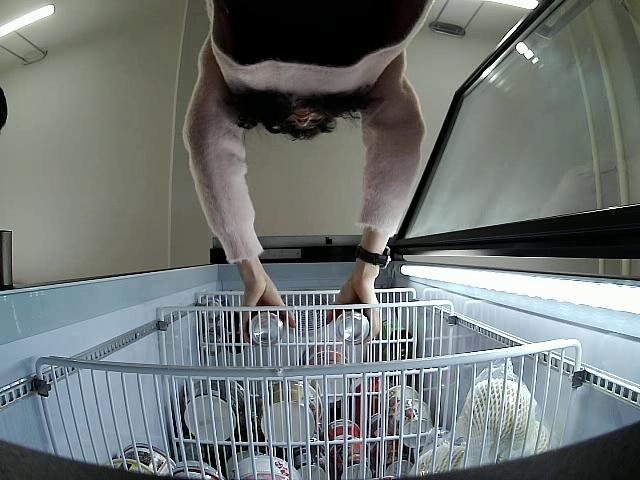00_hand: (237, 278, 297, 344), (322, 283, 381, 347)
11_cocaColaZero: (335, 305, 372, 344), (246, 311, 284, 347)
